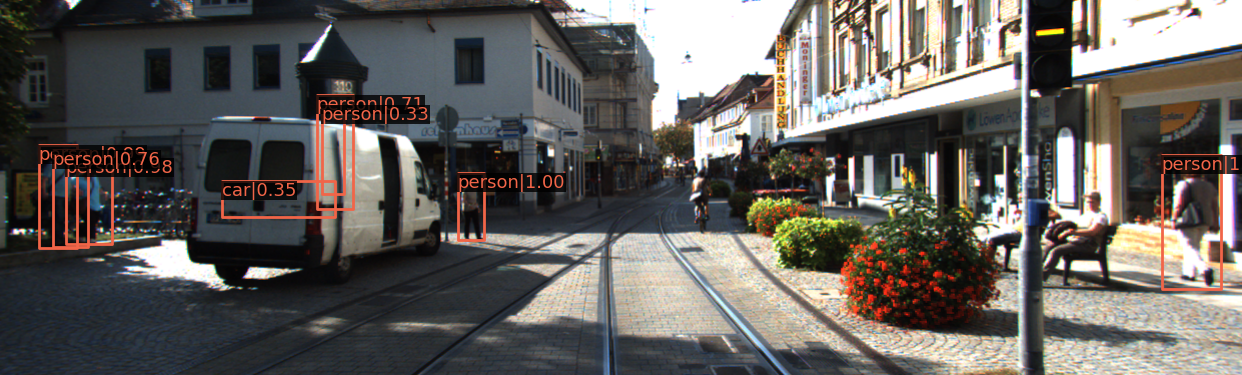car: (183, 184, 318, 228)
person: (1146, 155, 1242, 288), (41, 150, 87, 250), (68, 163, 111, 245), (460, 177, 485, 244)
